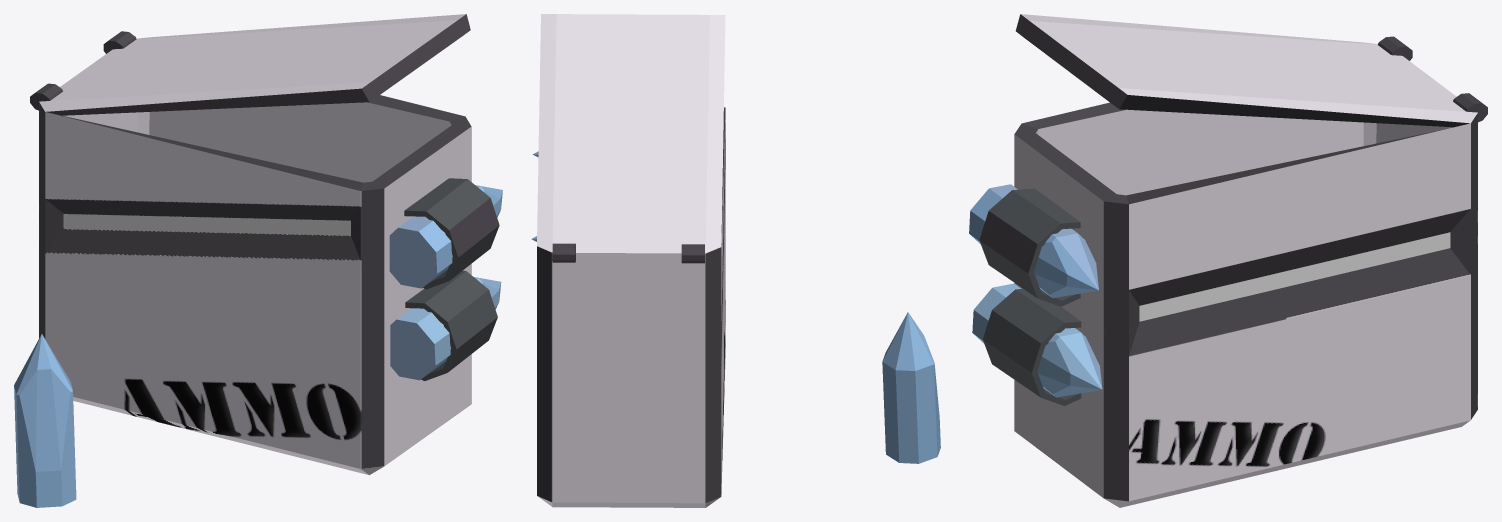
The model's file is AmmoBox.fbx.
3 views of the same model, side by side, from view 1: azimuth 30°, elevation 25°; view 2: azimuth 150°, elevation 25°; view 3: azimuth 270°, elevation 25° (orthographic). The views are drawn at different scales.
Parts seen in each view (by area): view 1: Ammo Box, bullet; view 2: Ammo Box, bullet; view 3: Ammo Box.
Part boxes in pixels (left/top/right/bottom): Ammo Box: left=30, top=14, right=502, bottom=475; bullet: left=14, top=334, right=76, bottom=507; Ammo Box: left=531, top=14, right=725, bottom=507; bullet: left=882, top=312, right=940, bottom=463; Ammo Box: left=969, top=14, right=1487, bottom=507.
Size of the model in its own units: 2.9 by 2.33 by 2.61.
